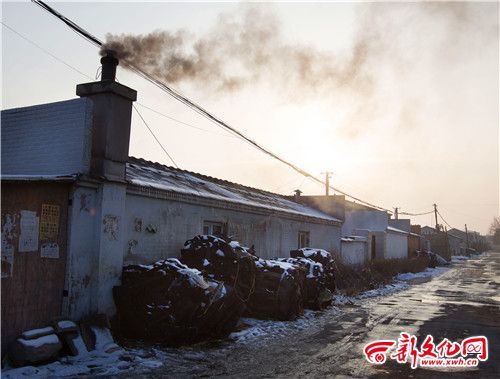dust: (99, 8, 279, 94)
